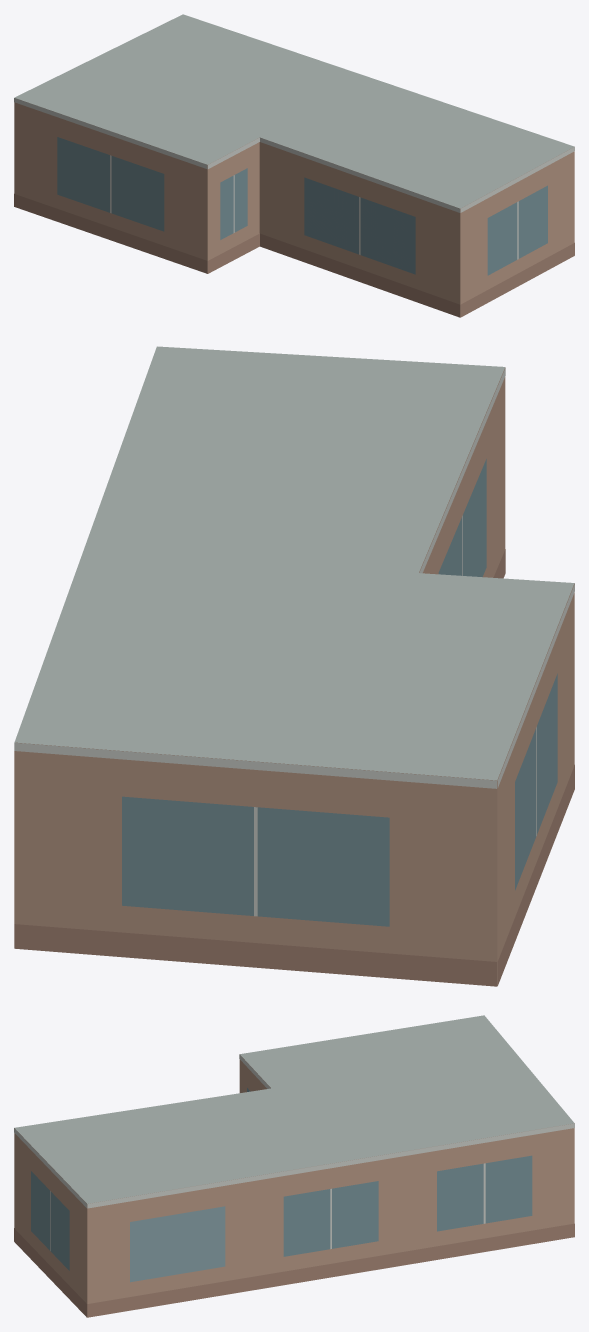
File: survey-upis-32629808.glb
3 views of the same model, one above another, from view 1: azimuth 30°, elevation 25°; view 2: azimuth 150°, elevation 25°; view 3: azimuth 270°, elevation 25° (orthographic). The views are drawn at different scales.
Parts seen in each view (by area): view 1: survey-upis-32629808.tmp; view 2: survey-upis-32629808.tmp; view 3: survey-upis-32629808.tmp.
Part boxes in pixels (x1,y1,x2,y2): survey-upis-32629808.tmp: (14,14,574,317); survey-upis-32629808.tmp: (14,346,574,986); survey-upis-32629808.tmp: (14,1015,574,1317).
Bounding box in the file's own units: 10.86 × 3.05 × 13.63.
